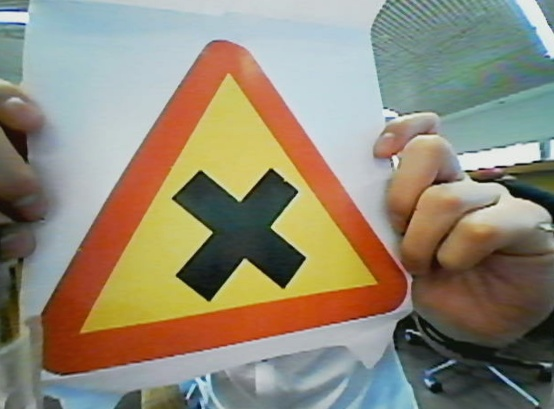junction: (34, 22, 456, 379)
